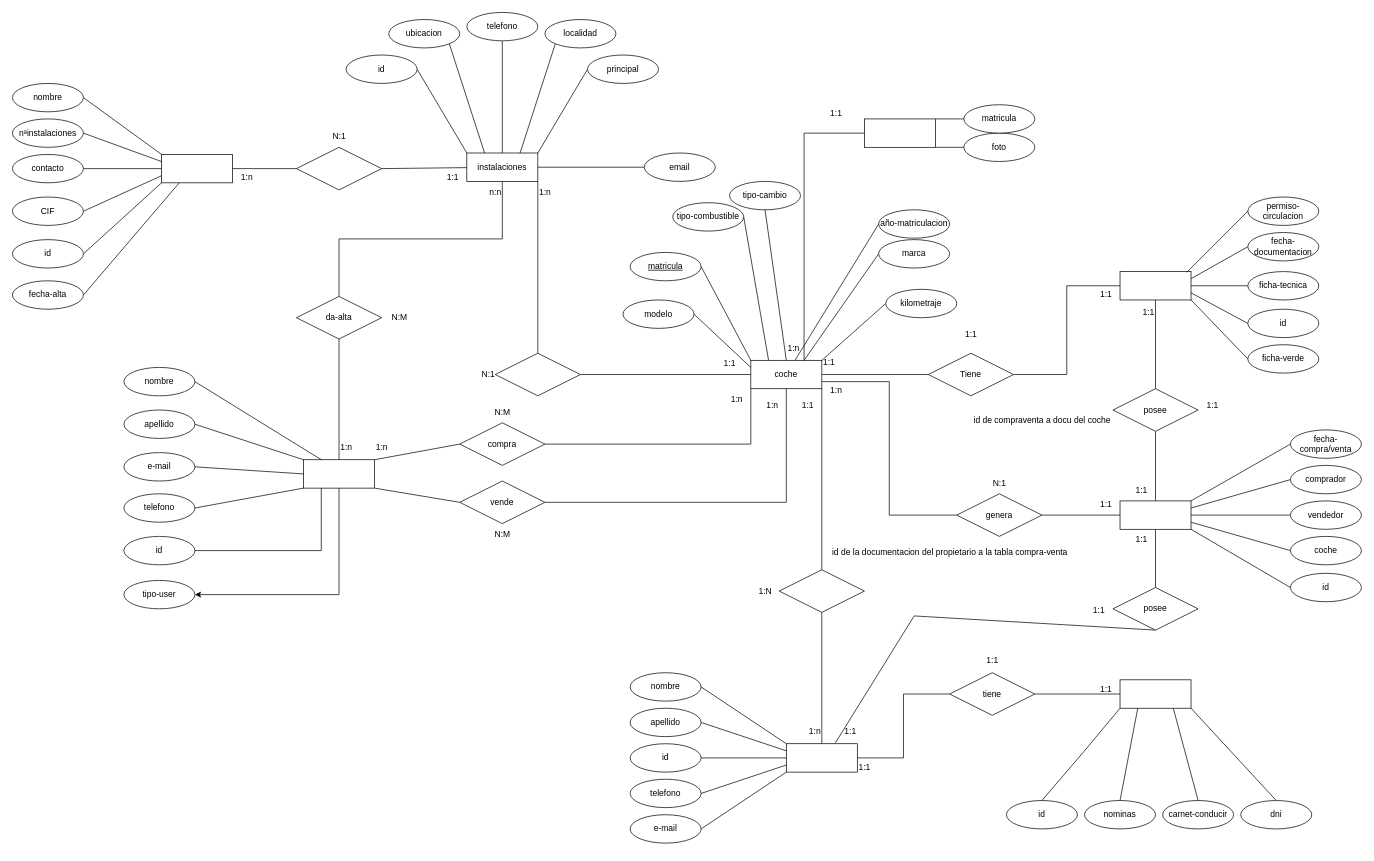
This 1374x861 diagram has some shape labels left out. The box of each missing label's shape, as (x1, y1, x2, y2) in pixels:
compra-venta: (1119, 500, 1191, 529)
docu-coche: (1119, 271, 1191, 300)
documentacion-propietario: (1119, 679, 1191, 708)
empresas: (161, 154, 233, 183)
esta-en: (495, 353, 580, 396)
Fotocoche: (864, 118, 935, 147)
pertenece: (779, 569, 864, 612)
poseen: (296, 147, 382, 190)
propietario: (786, 743, 857, 772)
usuario: (303, 459, 375, 488)
